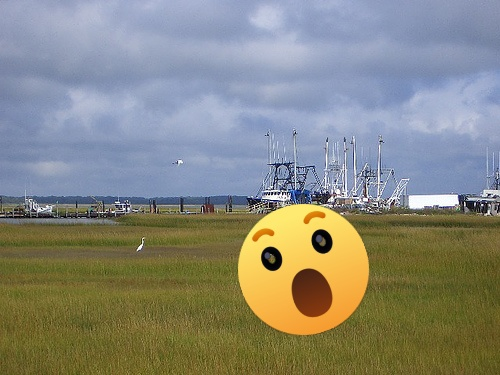wow: (238, 204, 369, 335)
